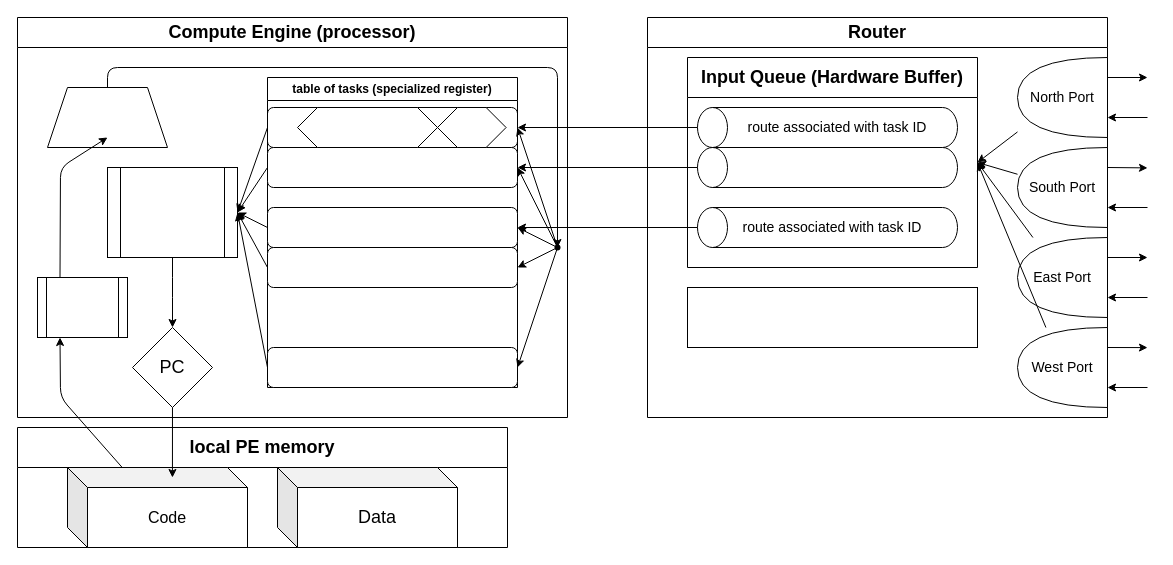
Some shapes in this 1173 by 565 pixel diagram are drawn without their labels. The shapes that lost their labels are listed below. From the top down, each one's centre as x and y in pixels, then its label:
At point 107,117: "ALU".
At point 367,127: "Mem Addr (code)".
At point 471,127: "flag bit".
At point 172,212: "Select Logic (task picker)".
At point 82,307: "Decode".
At point 832,317: "Mechanism to send".
